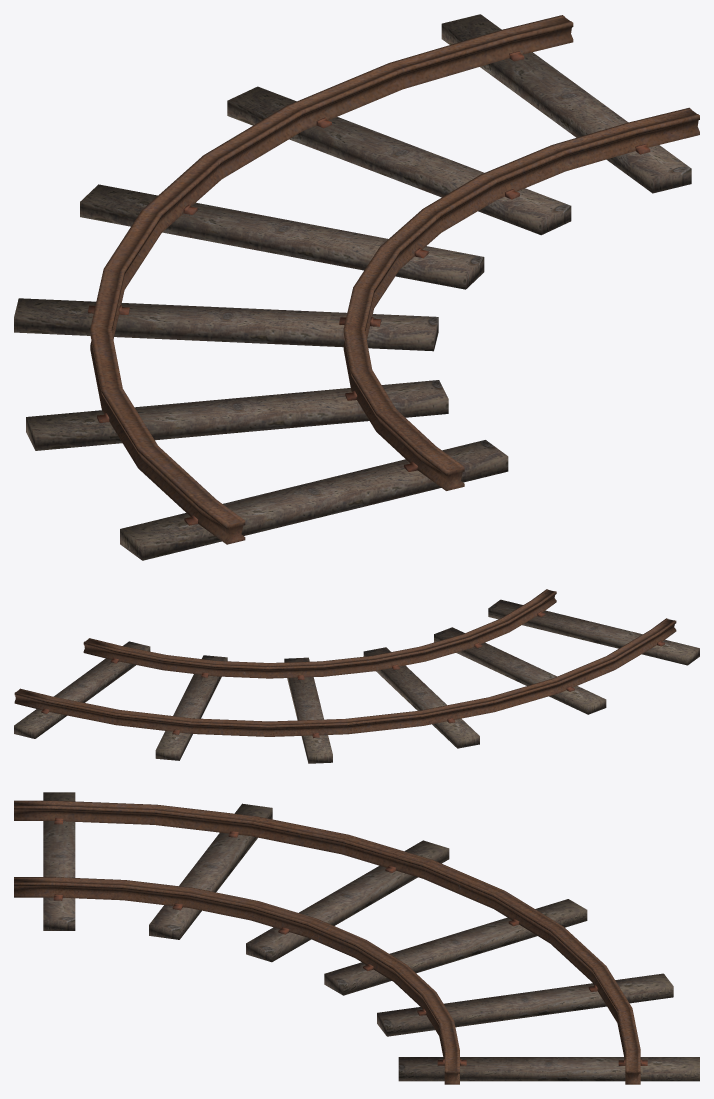
File: SchienenKurveHeil.fbx
The picture shows the model from 3 angles, top to bottom: view 1: azimuth 30°, elevation 25°; view 2: azimuth 150°, elevation 25°; view 3: azimuth 270°, elevation 25°; orthographic projection. The views are drawn at different scales.
Visible parts, largest first — view 1: SchienenKurveHeil; view 2: SchienenKurveHeil; view 3: SchienenKurveHeil.
Boxes of the visible parts, bbox=[...] form: SchienenKurveHeil: bbox=[14, 14, 699, 560]; SchienenKurveHeil: bbox=[14, 589, 699, 763]; SchienenKurveHeil: bbox=[14, 792, 699, 1084].
Size of the model in its own units: 422 by 16.82 by 418.
